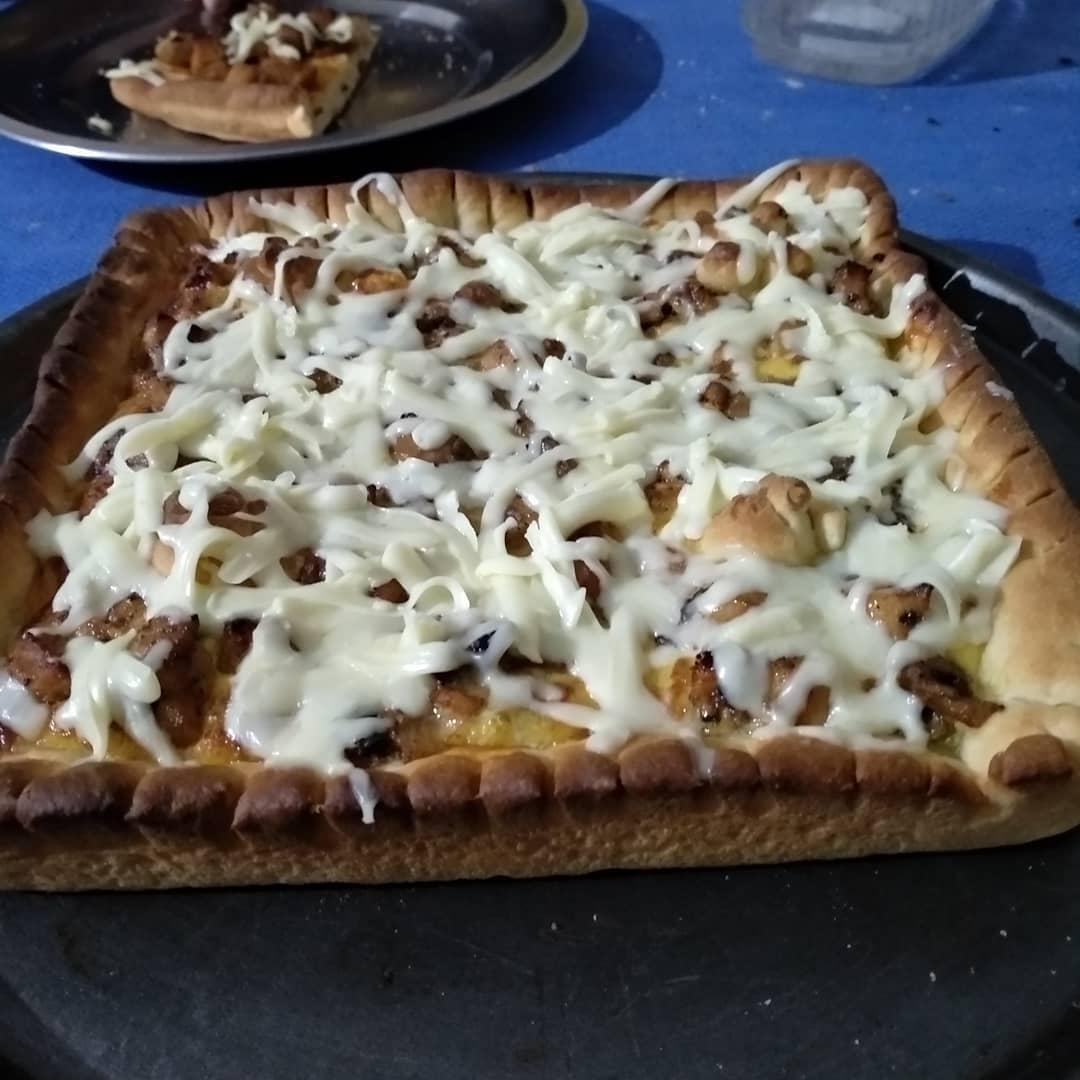Cheese: (121, 437, 341, 586), (721, 305, 902, 484), (349, 439, 558, 592), (673, 577, 878, 712), (209, 290, 404, 430), (559, 313, 714, 469), (567, 481, 666, 708), (263, 619, 400, 753), (851, 505, 986, 629), (413, 303, 544, 430), (501, 229, 616, 297)
Pizza: (0, 167, 1080, 893), (111, 9, 380, 141)
